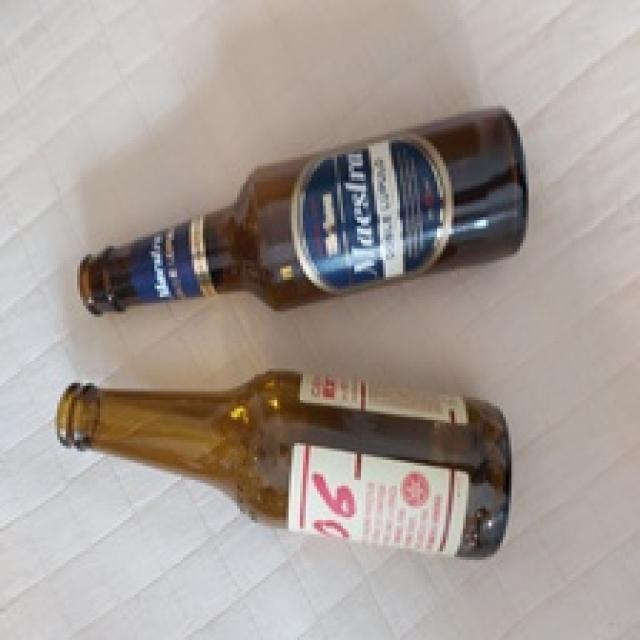garbage: (51, 99, 548, 590)
